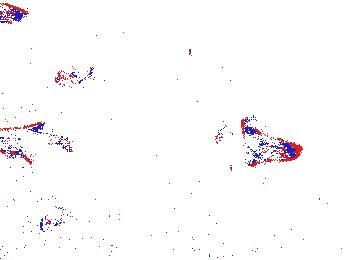X-ray fish: (39, 202, 67, 235)
red belly glassfish: (52, 63, 96, 88), (212, 123, 232, 145)
redtail glassfish: (238, 119, 303, 164), (1, 122, 77, 159), (1, 1, 31, 26)
